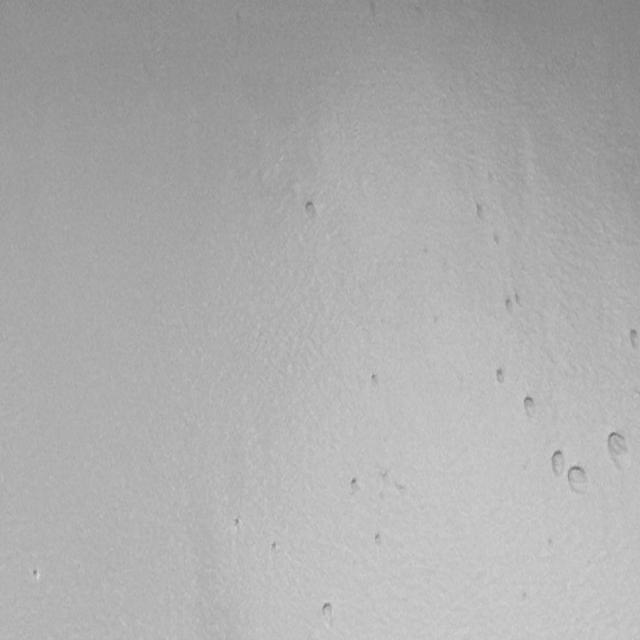pin holes: (602, 428, 634, 477), (564, 464, 590, 495), (547, 449, 566, 479), (300, 198, 322, 222), (522, 394, 540, 418), (491, 364, 508, 388), (318, 600, 335, 623), (501, 293, 518, 316), (346, 476, 364, 496), (626, 326, 640, 350), (369, 370, 383, 389), (29, 568, 44, 585), (372, 532, 387, 549), (269, 540, 281, 556), (233, 516, 244, 532)
